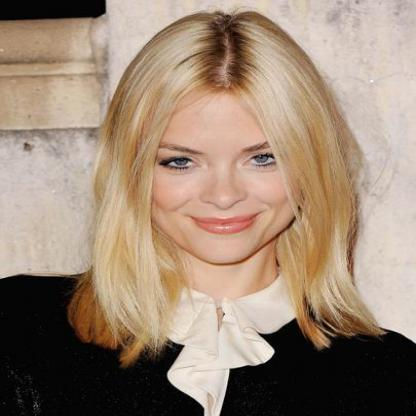long-hair: (79, 264, 373, 290)
